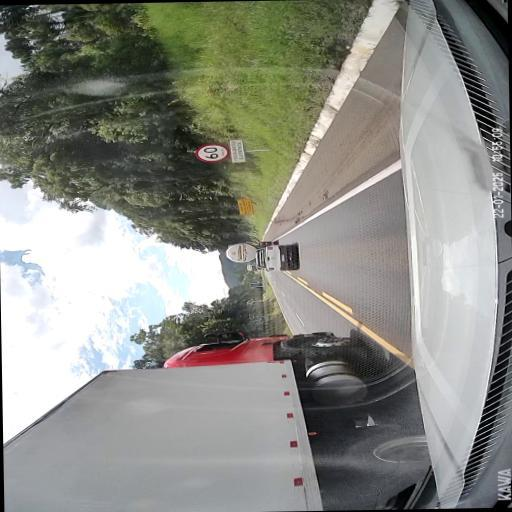R-19: (194, 143, 230, 162)
